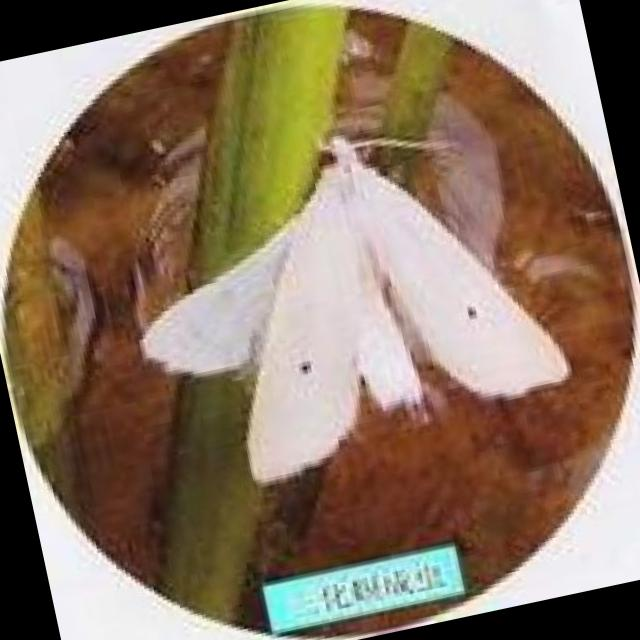stem-borer: (139, 135, 571, 484)
